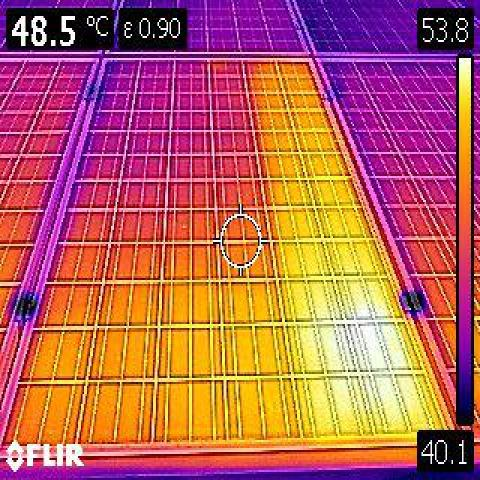fault: (244, 57, 451, 448)
